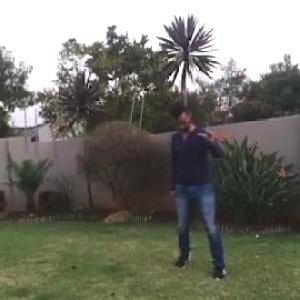land_hand: (197, 118, 220, 146)
